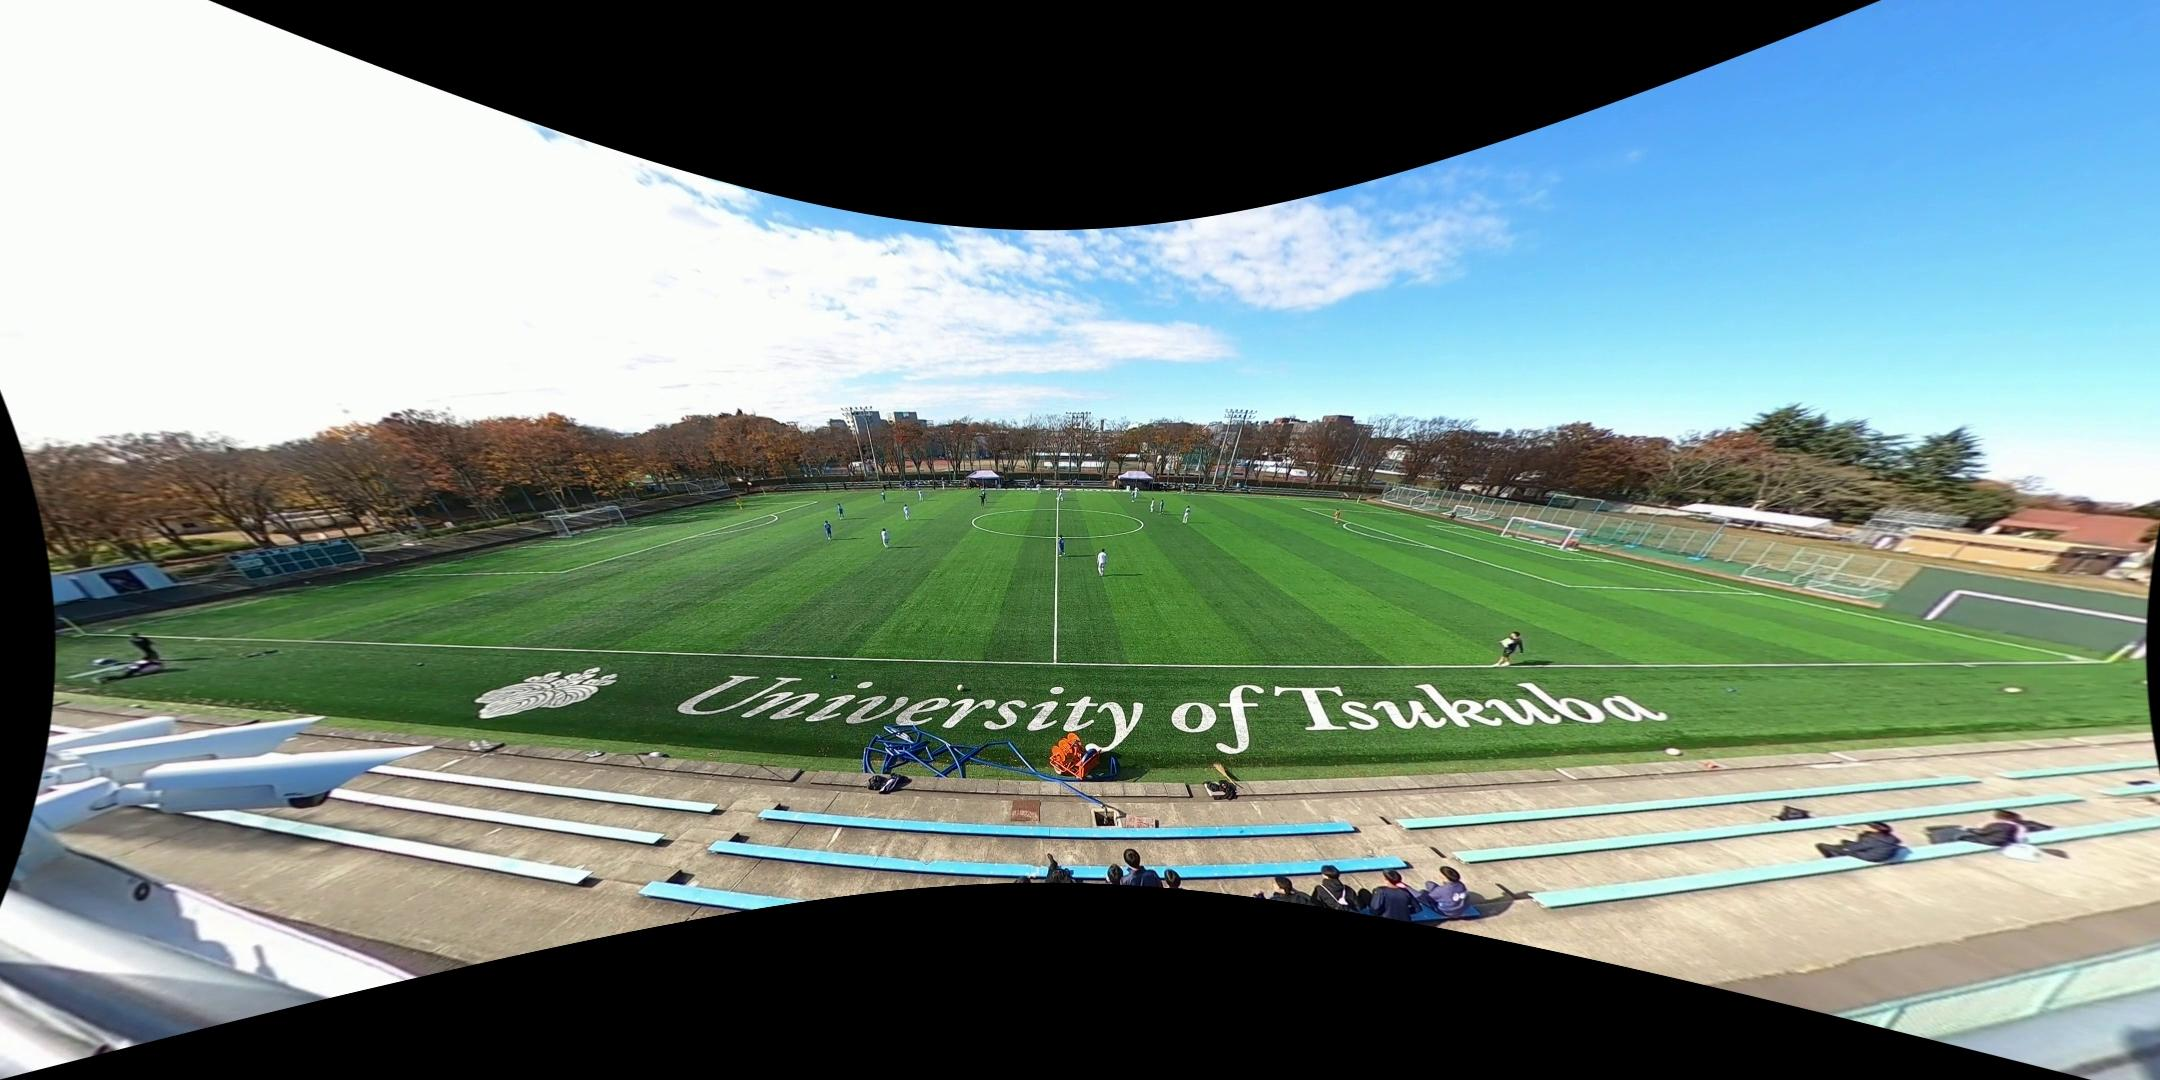person: (1495, 629, 1523, 668), (1095, 547, 1109, 577), (1056, 533, 1066, 557), (733, 494, 744, 512), (1332, 508, 1342, 526), (824, 520, 832, 540), (881, 528, 888, 550), (1182, 506, 1190, 524), (836, 503, 844, 520), (1034, 481, 1042, 498), (979, 494, 988, 509), (902, 505, 909, 524), (1149, 497, 1156, 515), (1057, 489, 1065, 502), (1159, 499, 1165, 516), (981, 490, 988, 503), (918, 488, 924, 503), (1131, 491, 1137, 505), (880, 490, 886, 503), (1133, 486, 1139, 499), (932, 479, 937, 493), (1024, 481, 1028, 494), (1058, 486, 1062, 498), (1126, 485, 1130, 496)
